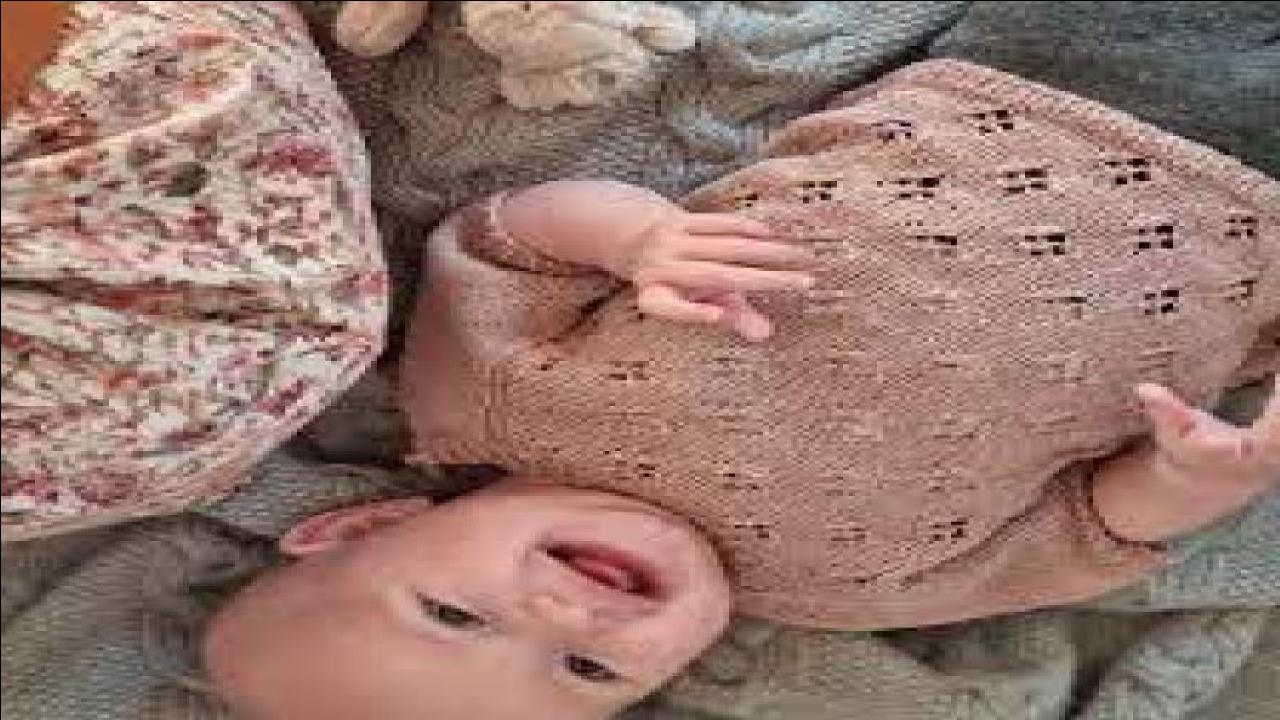hand: (620, 210, 811, 338), (1132, 377, 1280, 481)
